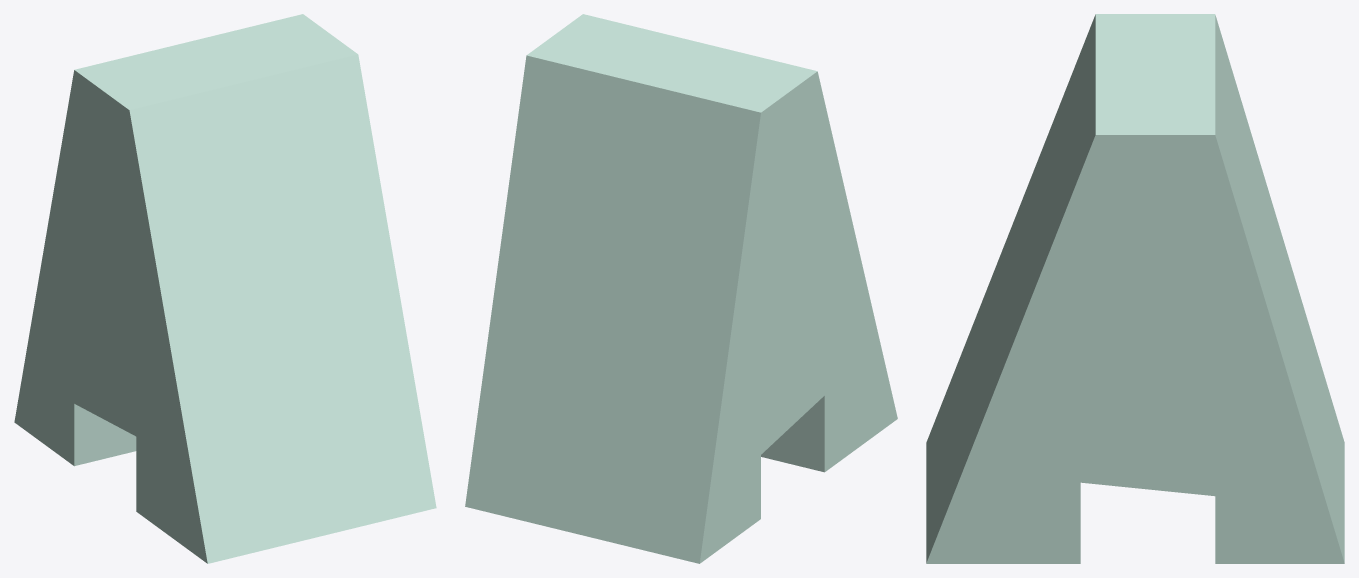
3 views of the same model, side by side, from view 1: azimuth 30°, elevation 25°; view 2: azimuth 150°, elevation 25°; view 3: azimuth 270°, elevation 25° (orthographic). The views are drawn at different scales.
Visible parts, largest first — view 1: Renderer Node; view 2: Renderer Node; view 3: Renderer Node.
Boxes of the visible parts, x1,y1,x2,y2 form: Renderer Node: (14,14,436,563); Renderer Node: (465,14,897,563); Renderer Node: (926,14,1344,563).
Size of the model in its own units: 0.4531 by 0.75 by 0.6632.
